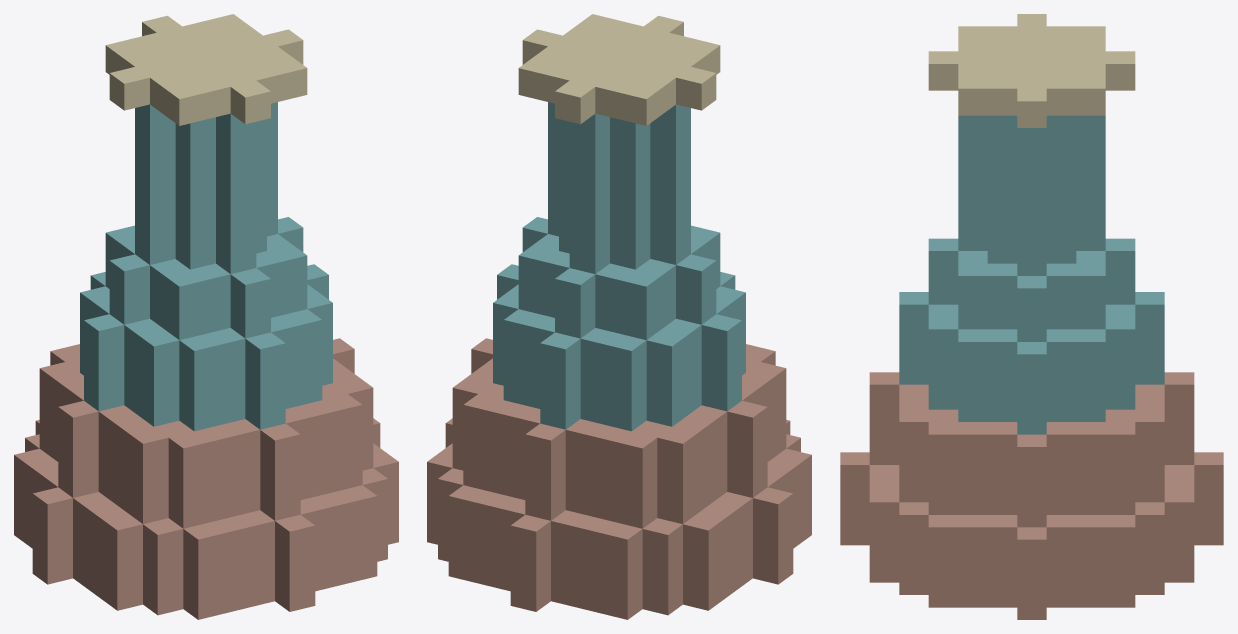
File: art-06.glb
The picture shows the model from 3 angles, left to right: view 1: azimuth 30°, elevation 25°; view 2: azimuth 150°, elevation 25°; view 3: azimuth 270°, elevation 25°; orthographic projection.
Parts seen in each view (by area): view 1: Clay vase; view 2: Clay vase; view 3: Clay vase.
Boxes of the visible parts, x1,y1,x2,y2 form: Clay vase: [14, 14, 398, 619]; Clay vase: [427, 14, 811, 619]; Clay vase: [840, 14, 1223, 619].
Bounding box in the file's own units: 1.04 × 1.44 × 1.04.
